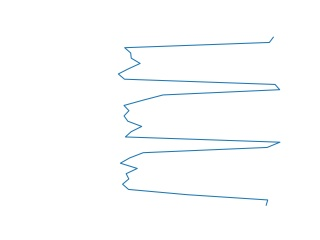majorRiverChannelBar: (114, 37, 283, 205)
